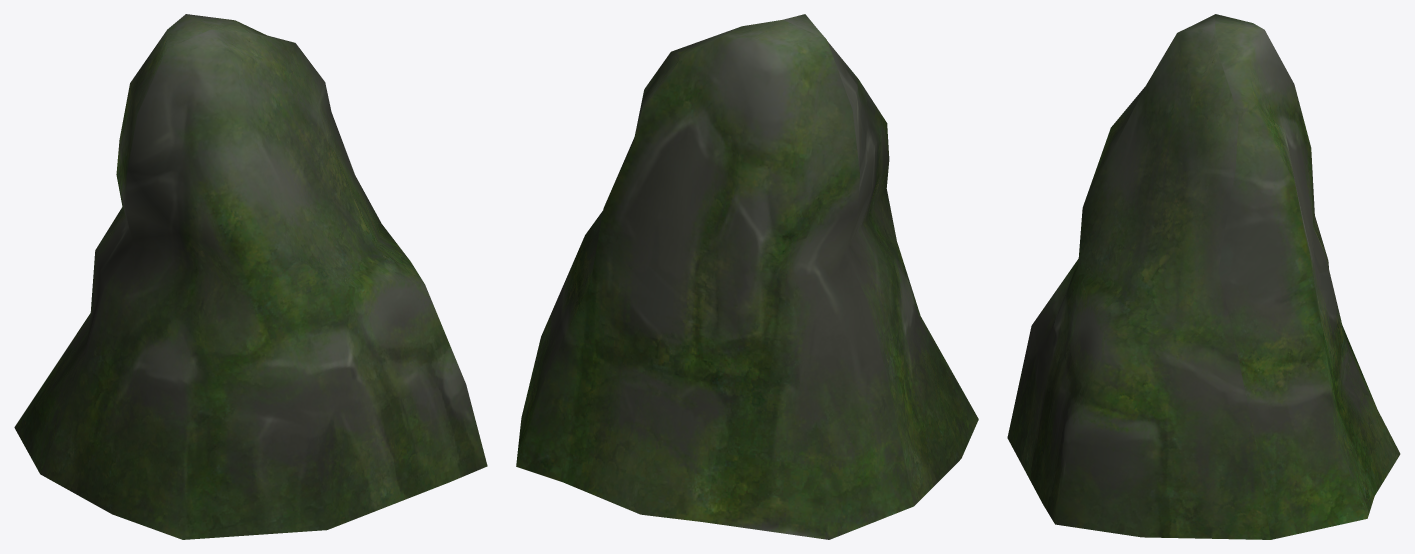
Rendered from Stage_CaoYuan_ShanShi06.FBX.
3 views of the same model, side by side, from view 1: azimuth 30°, elevation 25°; view 2: azimuth 150°, elevation 25°; view 3: azimuth 270°, elevation 25° (orthographic). The views are drawn at different scales.
Parts seen in each view (by area): view 1: Stage_CaoYuan_ShanShi06; view 2: Stage_CaoYuan_ShanShi06; view 3: Stage_CaoYuan_ShanShi06.
Boxes of the visible parts, x1=… form: Stage_CaoYuan_ShanShi06: x1=14, y1=14, x2=487, y2=539; Stage_CaoYuan_ShanShi06: x1=516, y1=14, x2=978, y2=539; Stage_CaoYuan_ShanShi06: x1=1007, y1=14, x2=1400, y2=539.
Bounding box in the file's own units: 567 × 610 × 533.
